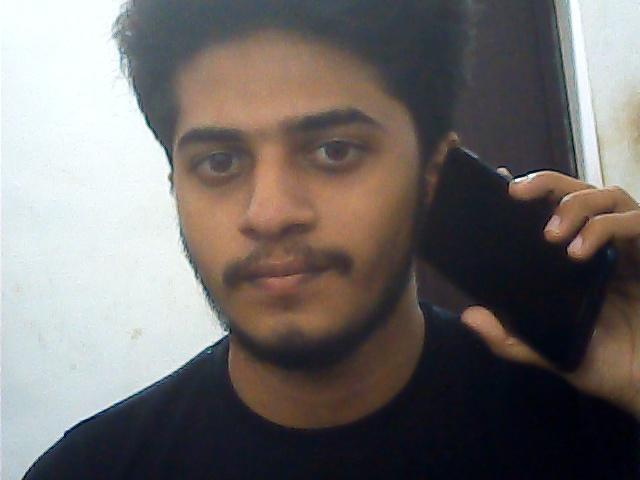PhoneUse: (426, 147, 614, 376)
SafeDriving: (179, 134, 263, 191), (294, 121, 378, 176)
